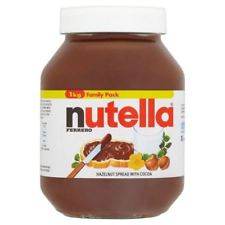nutella: (40, 6, 185, 220)
